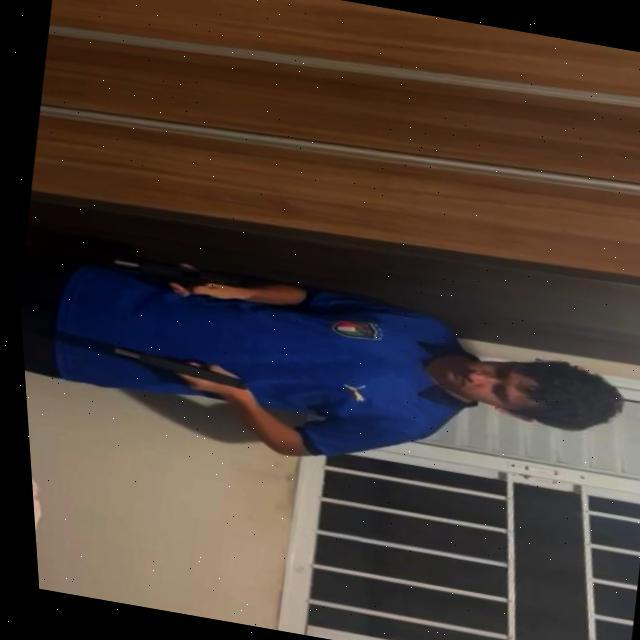gun: (102, 340, 252, 392), (108, 249, 236, 289)
